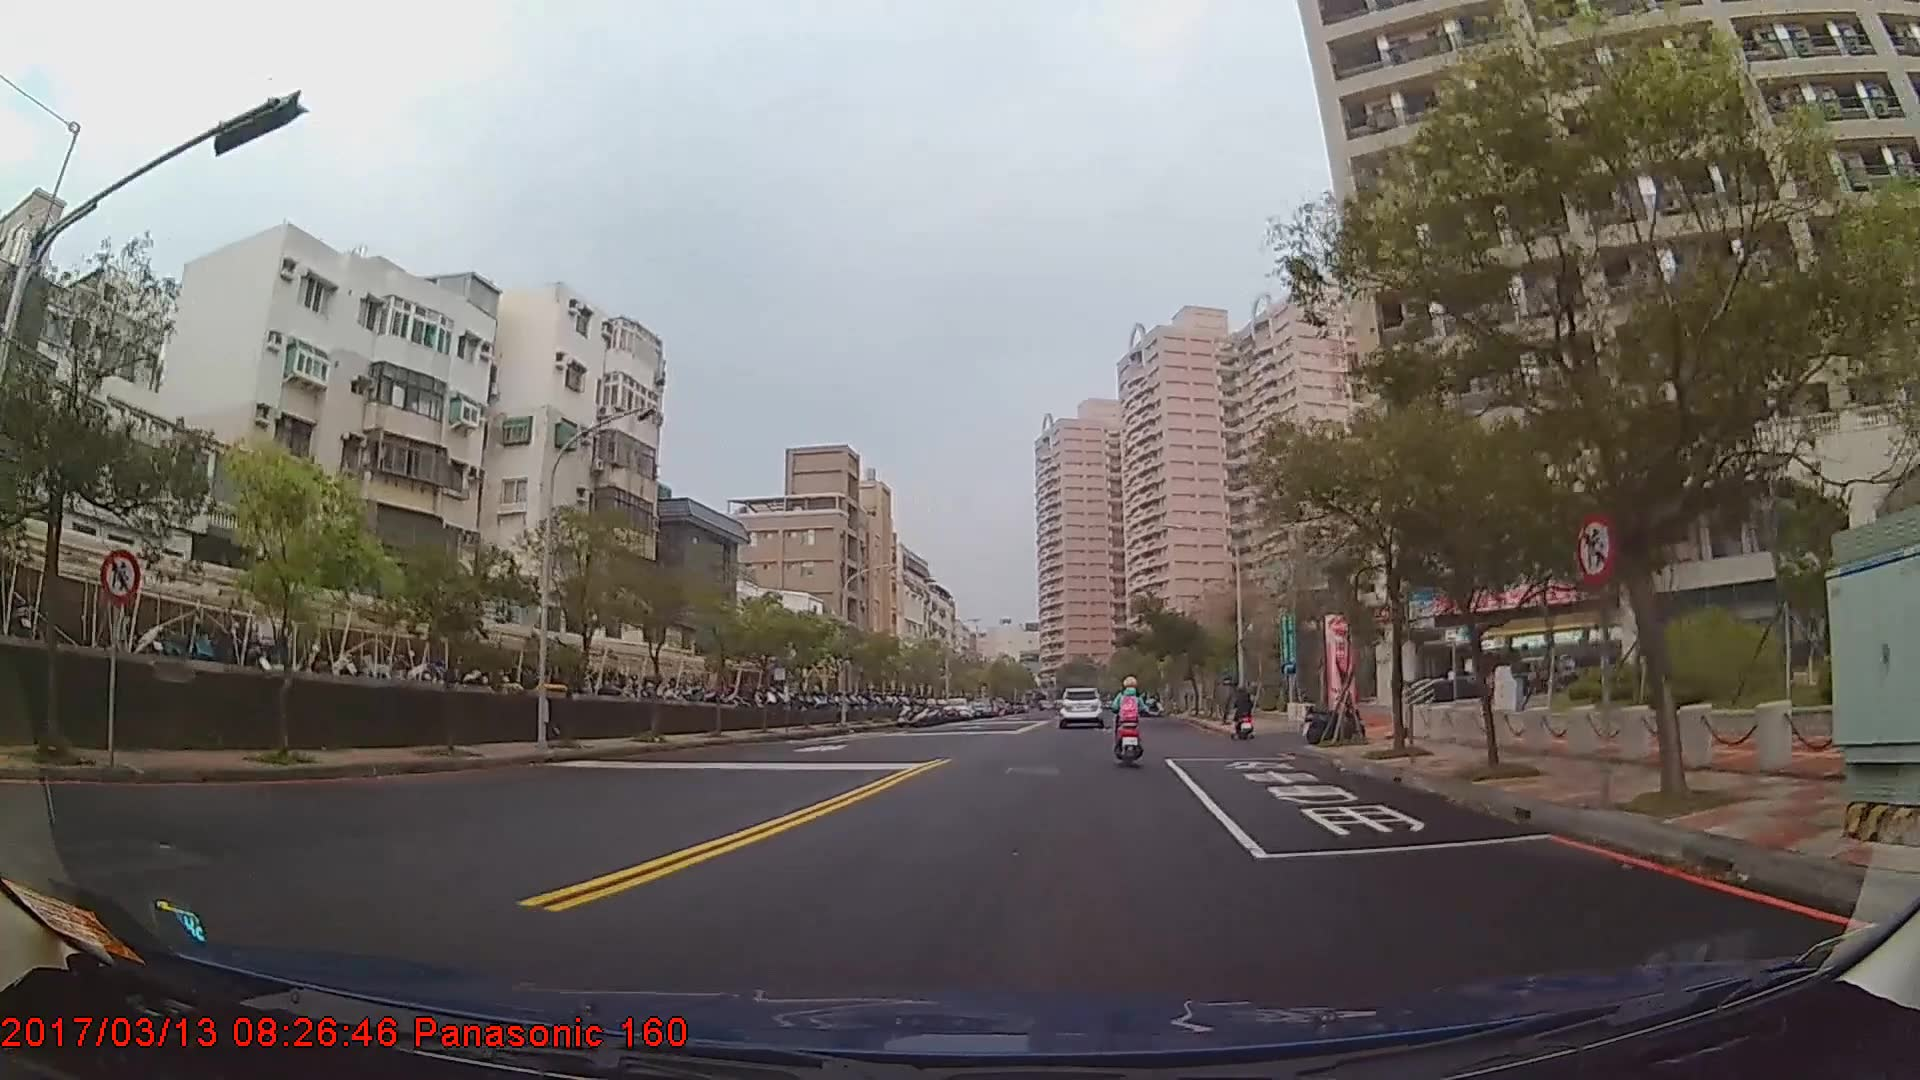rider: (1111, 677, 1156, 763), (1234, 690, 1255, 745)
vehicle: (1059, 686, 1100, 727)
